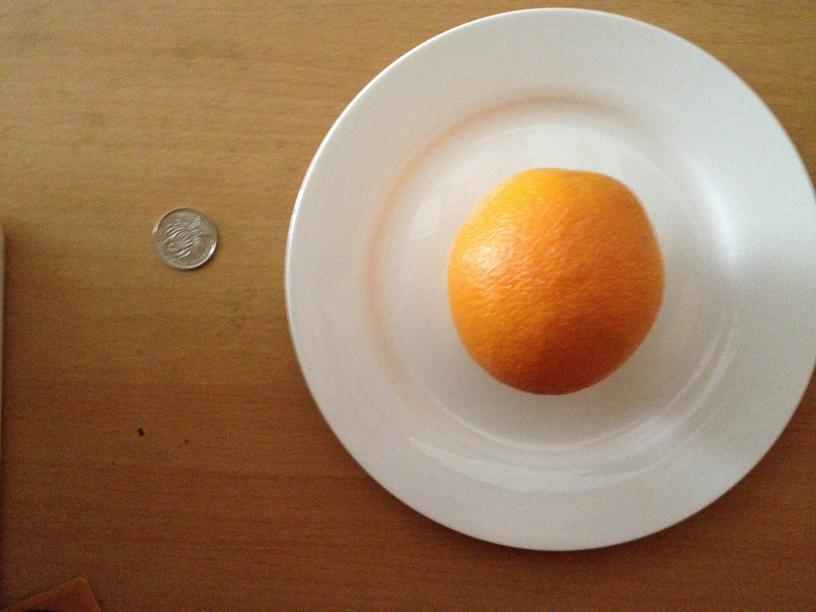coin: (154, 207, 219, 271)
orange: (449, 170, 663, 392)
